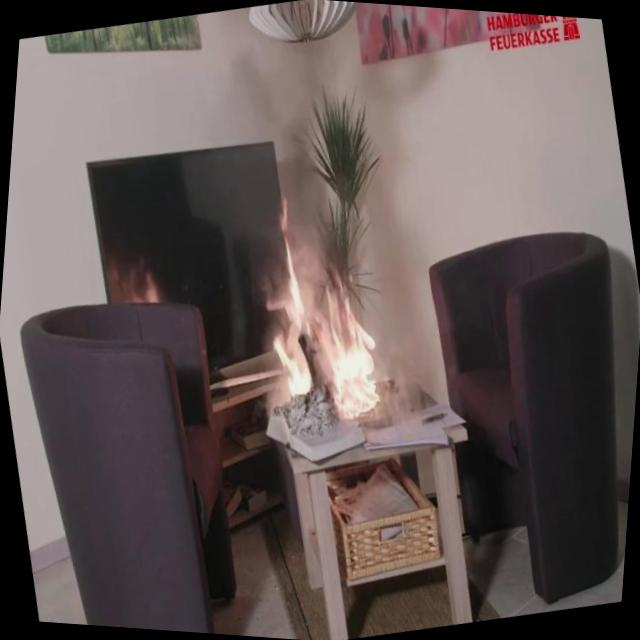fire: (231, 174, 422, 437)
